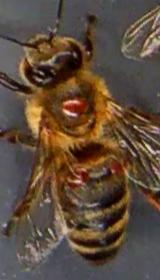varroa_mite: (54, 96, 96, 122), (98, 159, 130, 183), (60, 168, 94, 190)
